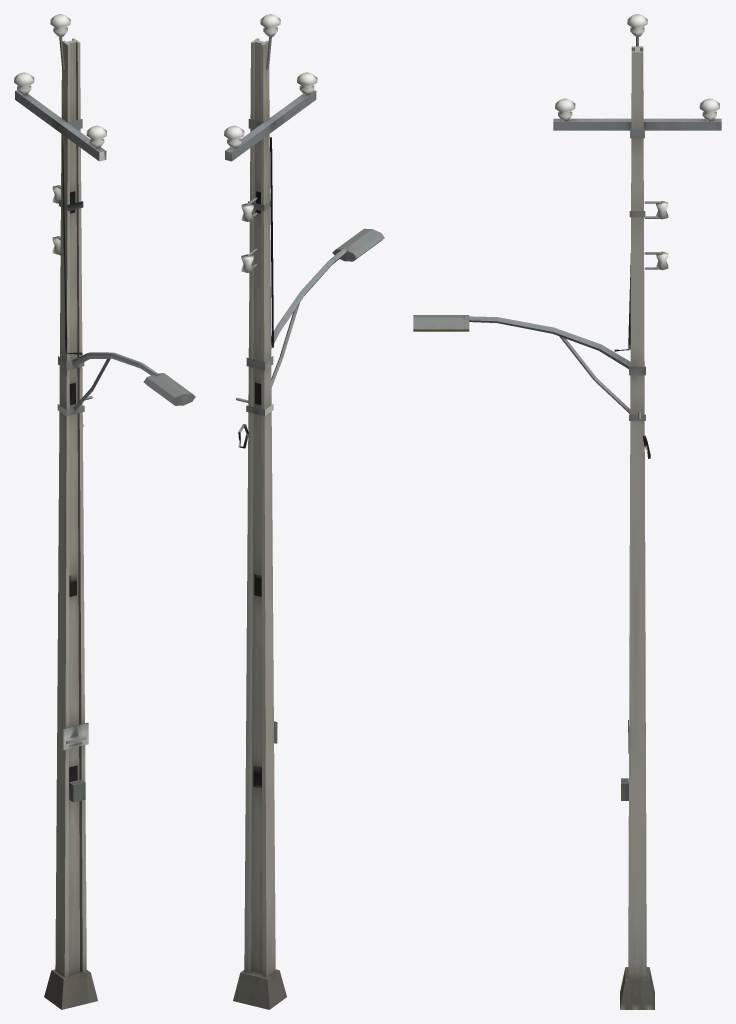
The model's file is pole_streetlight.glb.
3 views of the same model, side by side, from view 1: azimuth 30°, elevation 25°; view 2: azimuth 150°, elevation 25°; view 3: azimuth 270°, elevation 25° (orthographic).
Parts seen in each view (by area): view 1: pole_streetlight; view 2: pole_streetlight; view 3: pole_streetlight.
Part boxes in pixels (<box>): pole_streetlight: <box>14,14,195,1009</box>; pole_streetlight: <box>224,14,384,1009</box>; pole_streetlight: <box>413,14,721,1009</box>.
Bounding box in the file's own units: 2.12 × 46.32 × 13.2.
Materials: 2 (1 with a texture image).
